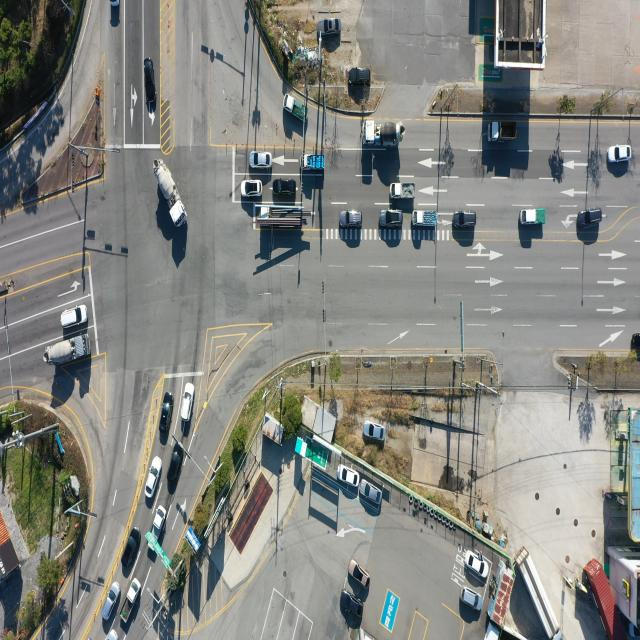car: (340, 587, 364, 622), (123, 529, 142, 571), (144, 455, 162, 499), (167, 444, 183, 492), (101, 582, 120, 622), (60, 304, 88, 330), (144, 58, 156, 115), (467, 552, 490, 579), (359, 480, 382, 506), (350, 561, 370, 590), (463, 585, 485, 610), (161, 392, 174, 433), (181, 383, 194, 423), (338, 464, 361, 486), (363, 421, 385, 442), (609, 144, 633, 163), (348, 67, 372, 86), (452, 210, 476, 229), (341, 209, 363, 228), (251, 150, 274, 168), (378, 210, 401, 228), (242, 179, 263, 198), (274, 178, 296, 196), (322, 18, 341, 36)
medium_truck: (518, 543, 562, 637), (154, 162, 185, 229), (44, 332, 90, 369), (259, 202, 308, 230), (361, 120, 403, 148)
small_truck: (120, 575, 142, 624), (147, 505, 166, 552), (283, 92, 305, 126), (488, 120, 516, 140), (577, 206, 602, 228), (520, 207, 546, 226), (392, 181, 416, 200), (413, 210, 438, 227), (302, 152, 324, 170)
